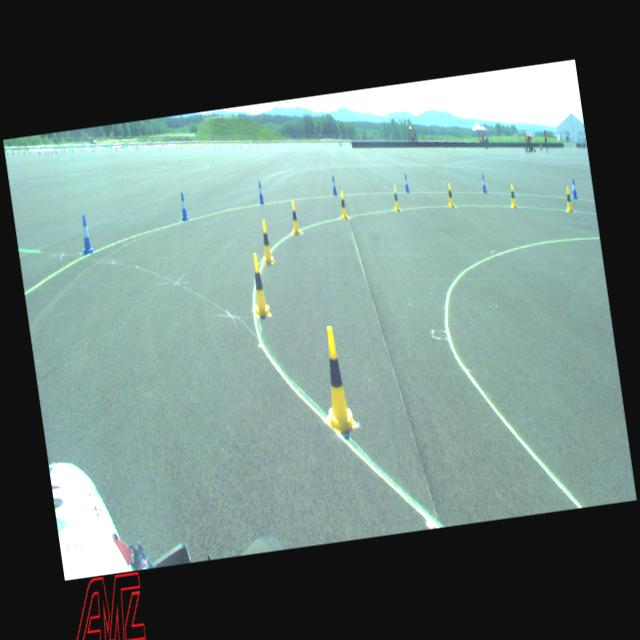blue_cone: (78, 213, 94, 256), (178, 192, 189, 222), (256, 180, 265, 204), (570, 178, 578, 200), (330, 175, 338, 196), (480, 174, 488, 194), (403, 173, 410, 193)
yellow_cone: (313, 324, 358, 434), (246, 252, 271, 318), (257, 218, 275, 265), (288, 199, 302, 235), (338, 189, 348, 219), (564, 186, 574, 214), (391, 185, 401, 212), (508, 183, 517, 209), (446, 182, 454, 208)
